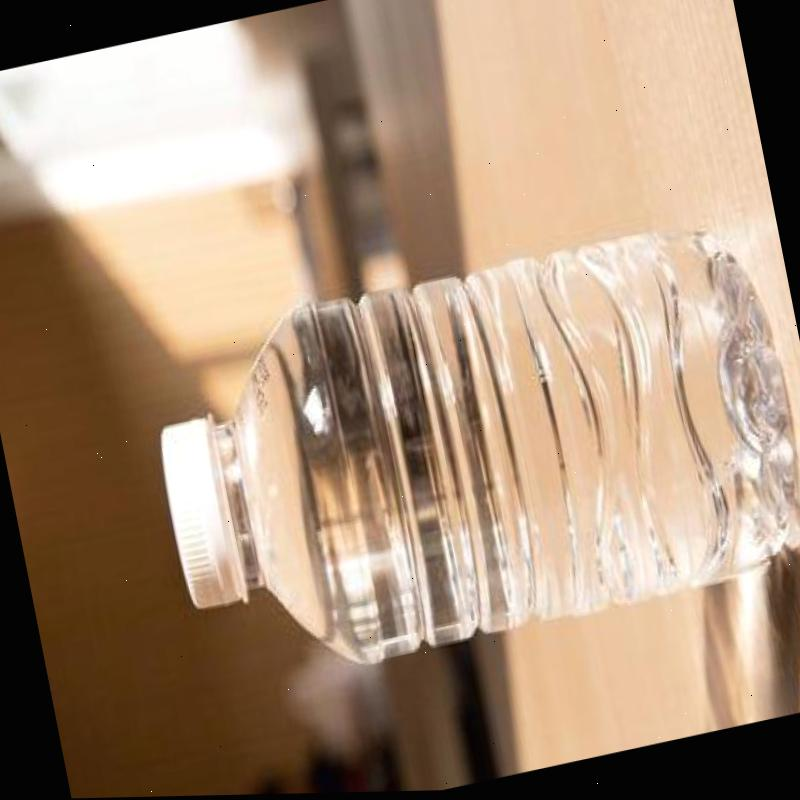botella: (131, 205, 800, 700)
